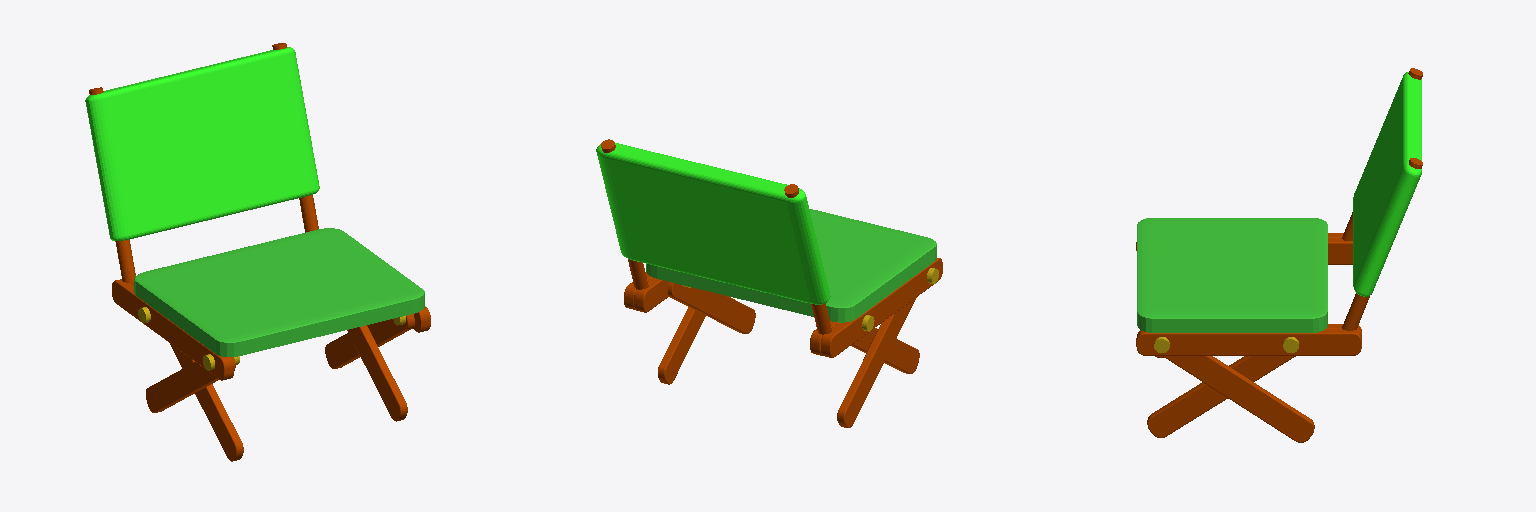
The model's file is stool.obj.
3 views of the same model, side by side, from view 1: azimuth 30°, elevation 25°; view 2: azimuth 150°, elevation 25°; view 3: azimuth 270°, elevation 25° (orthographic).
Visible parts, largest first — view 1: 立方体.005, 立方体, 立方体.003, 立方体.002, 立方体.001, 柱体; view 2: 立方体.005, 立方体, 立方体.002, 立方体.003, 立方体.001, 柱体, 立方体.004; view 3: 立方体, 立方体.005, 立方体.001, 立方体.002, 立方体.003, 柱体, 立方体.004.
Part boxes in pixels (x1,y1,x2,y2): 立方体.005: (85, 47, 319, 240); 立方体: (134, 228, 424, 356); 立方体.003: (170, 325, 407, 461); 立方体.002: (146, 314, 414, 412); 立方体.001: (112, 279, 430, 380); 柱体: (89, 43, 318, 282); 立方体.005: (596, 143, 830, 304); 立方体: (646, 209, 936, 322); 立方体.002: (658, 297, 916, 427); 立方体.003: (668, 282, 919, 373); 立方体.001: (624, 258, 942, 357); 柱体: (601, 139, 831, 334); 立方体.004: (634, 277, 838, 355); 立方体: (1137, 218, 1327, 332); 立方体.005: (1353, 72, 1421, 296); 立方体.001: (1136, 233, 1361, 355); 立方体.002: (1163, 356, 1314, 442); 立方体.003: (1147, 356, 1295, 437); 柱体: (1342, 68, 1422, 330); 立方体.004: (1326, 238, 1361, 334).
Bounding box in the file's own units: 2.1 × 2.61 × 2.4.